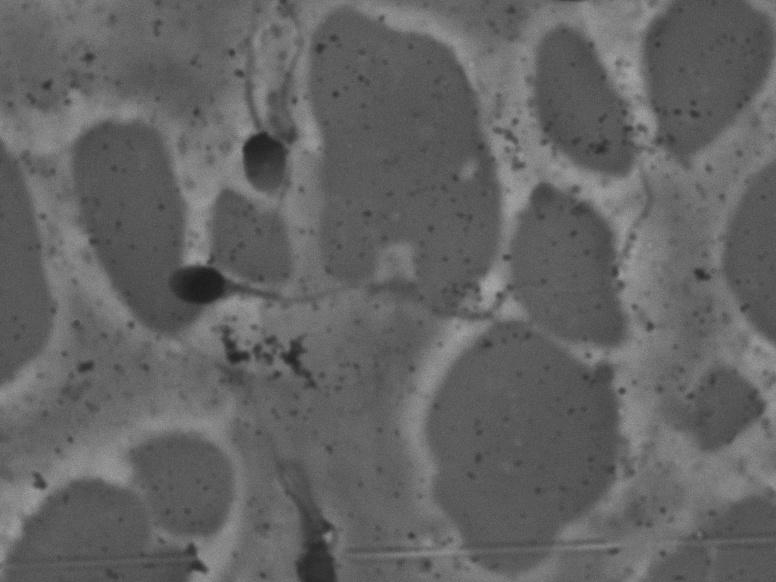Abnormal: (219, 5, 321, 213)
Normal: (147, 252, 566, 333)
